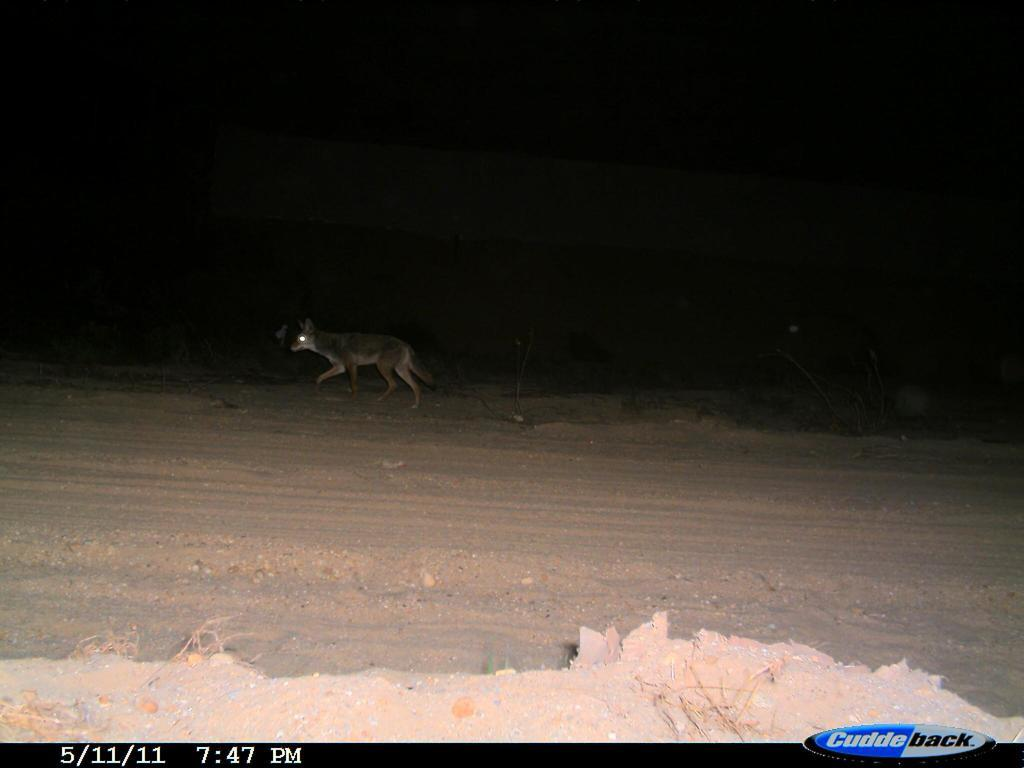coyote: (273, 313, 442, 425)
